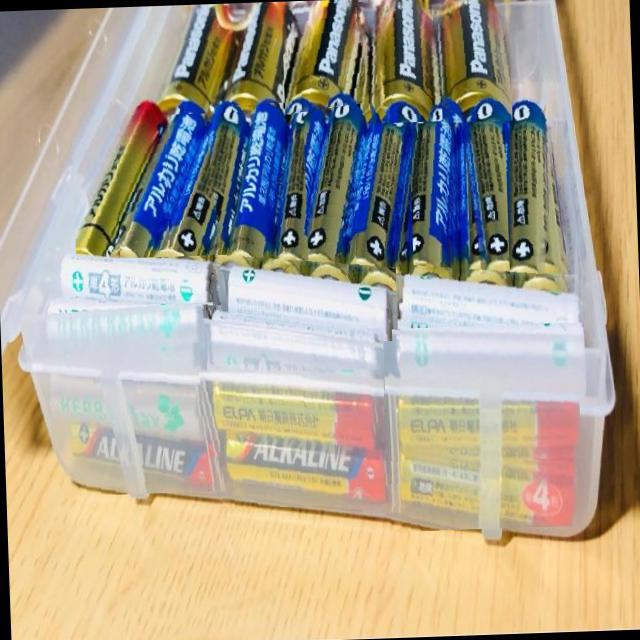Hazard: (202, 298, 384, 398), (392, 322, 586, 414), (218, 249, 398, 347), (391, 382, 582, 474), (199, 366, 386, 457), (387, 442, 576, 532), (70, 94, 170, 264), (395, 256, 588, 344), (115, 97, 216, 260), (218, 415, 390, 509), (203, 96, 294, 266), (164, 100, 254, 264), (61, 406, 218, 496), (254, 96, 336, 267), (48, 354, 212, 438), (302, 100, 378, 270), (350, 94, 422, 270), (48, 254, 229, 324), (34, 302, 215, 364), (503, 90, 562, 280), (456, 88, 513, 278), (355, 0, 442, 124), (208, 2, 311, 106), (281, 0, 373, 115), (408, 96, 464, 279), (430, 0, 512, 123), (160, 4, 242, 114)
